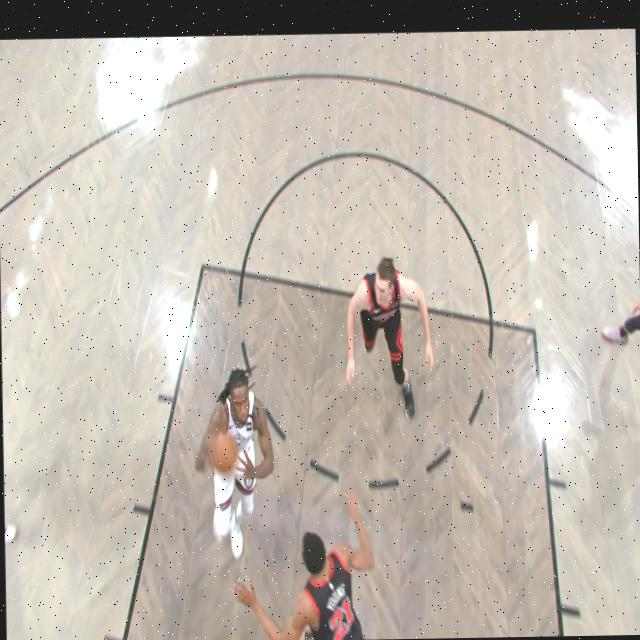no foul: (157, 215, 440, 576)
